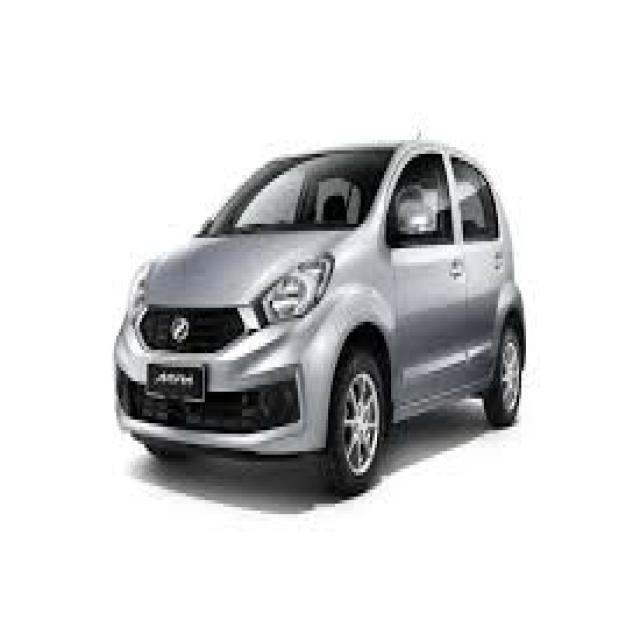PeroduaMyvi: (112, 133, 526, 497)
